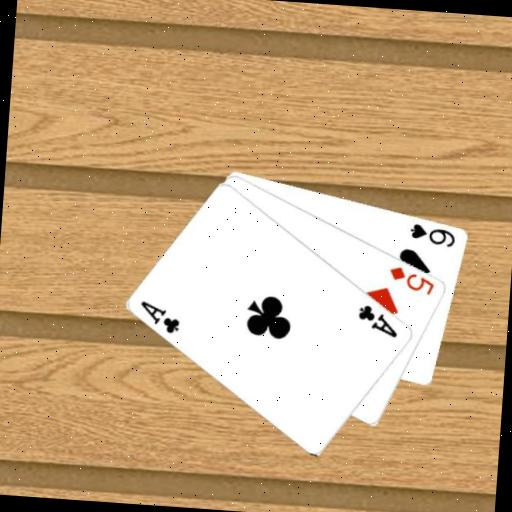5D: (385, 263, 438, 298)
6S: (406, 219, 458, 249)
AC: (354, 301, 402, 341), (136, 297, 184, 336)
